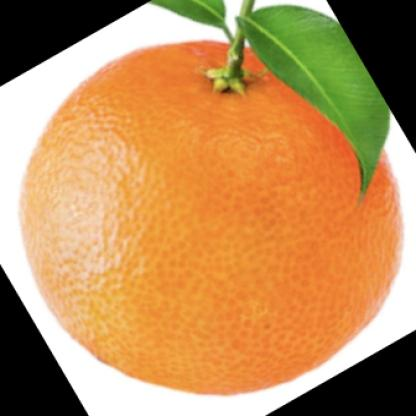fresh: (22, 39, 403, 395)
